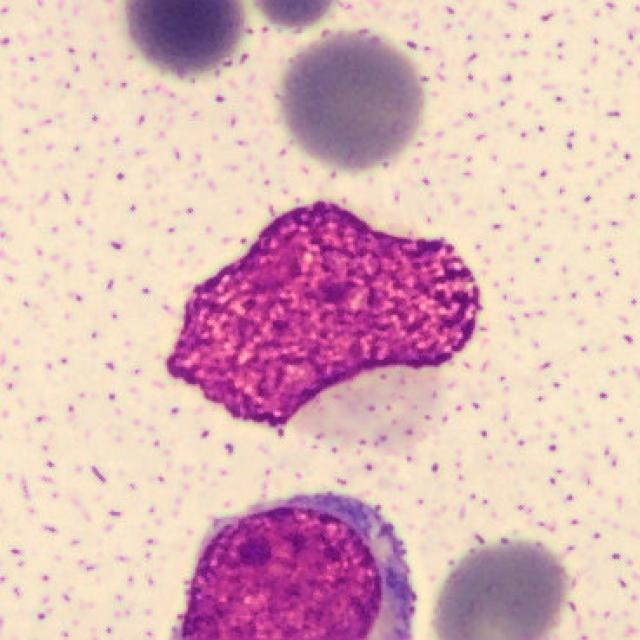Mieloblasto: (176, 495, 416, 640)
Restos celulares: (167, 202, 482, 434)
